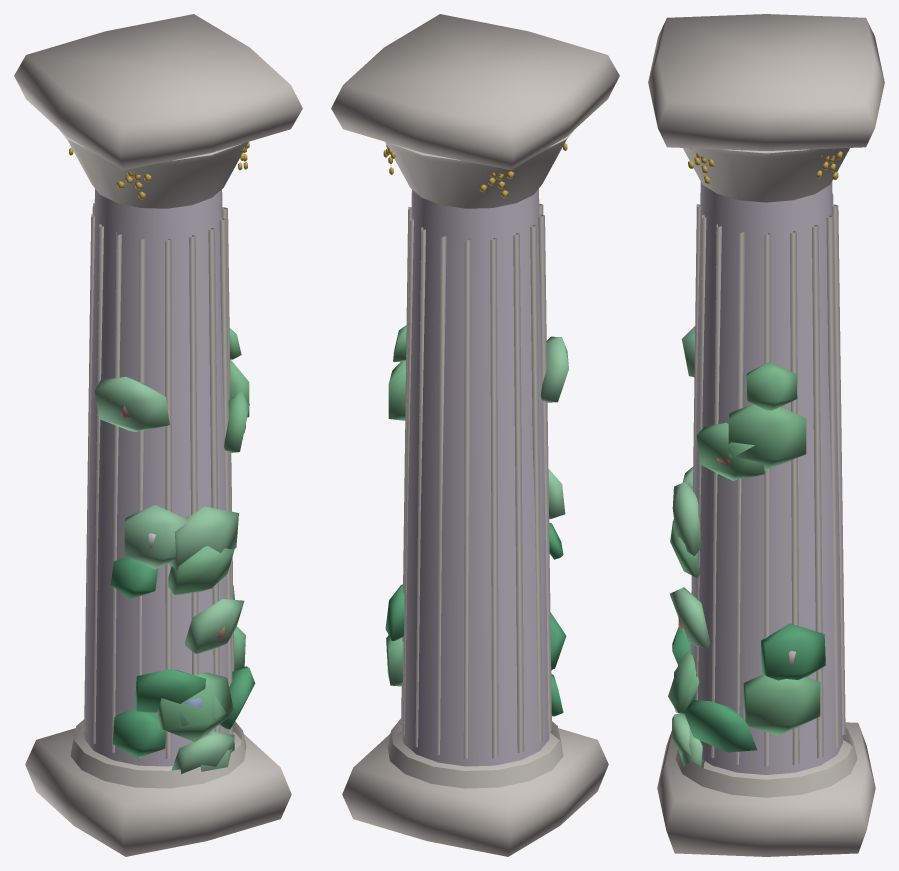
File: shrine_column.gltf
3 renders of one model, left to right at view 1: azimuth 30°, elevation 25°; view 2: azimuth 150°, elevation 25°; view 3: azimuth 270°, elevation 25°, orthographic. The views are drawn at different scales.
Visible parts, largest first — view 1: shrine_column; view 2: shrine_column; view 3: shrine_column.
Boxes of the visible parts, <box> form: shrine_column: <box>14,14,302,856</box>; shrine_column: <box>331,14,619,856</box>; shrine_column: <box>648,14,884,856</box>.
Size of what is drawn, in the model's own units: 1.3 by 4.6 by 1.3.
